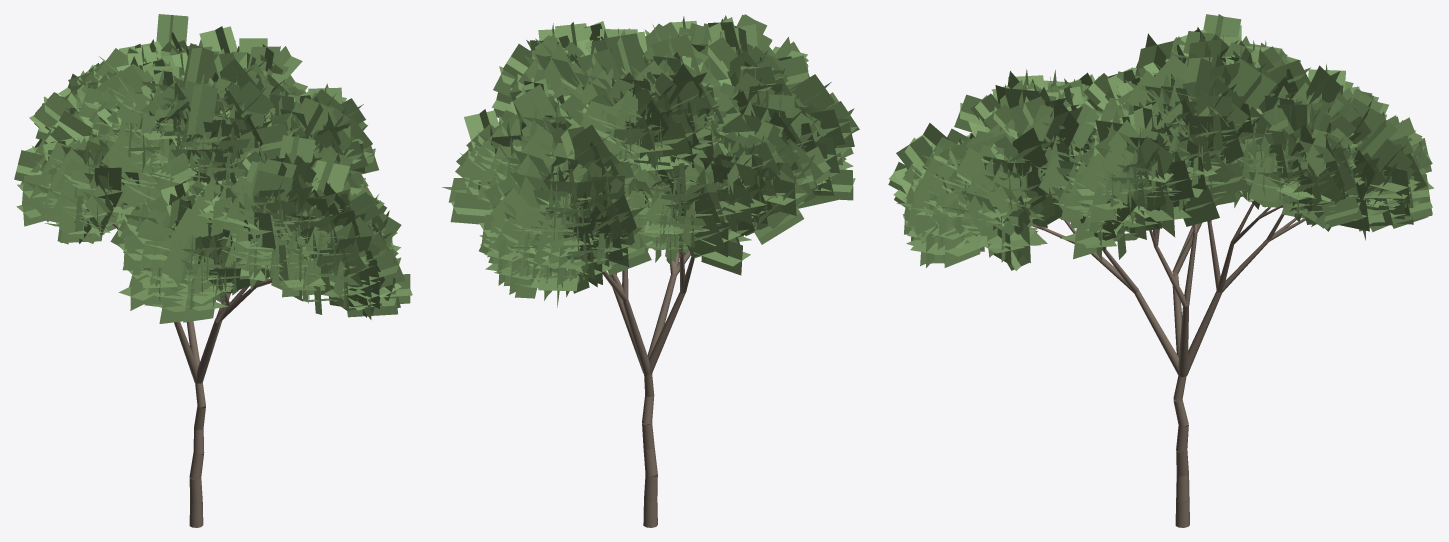
File: maple3d.glb
3 views of the same model, side by side, from view 1: azimuth 30°, elevation 25°; view 2: azimuth 150°, elevation 25°; view 3: azimuth 270°, elevation 25° (orthographic). The views are drawn at different scales.
Visible parts, largest first — view 1: leaves, trunk; view 2: leaves, trunk; view 3: leaves, trunk.
Boxes of the visible parts, x1,y1,x2,y2 form: leaves: (14, 14, 412, 323); trunk: (112, 223, 272, 527); leaves: (442, 14, 859, 307); trunk: (602, 249, 694, 527); leaves: (888, 14, 1433, 270); trunk: (1032, 200, 1305, 527).
Bounding box in the file's own units: 15.33 × 21.99 × 21.93.
